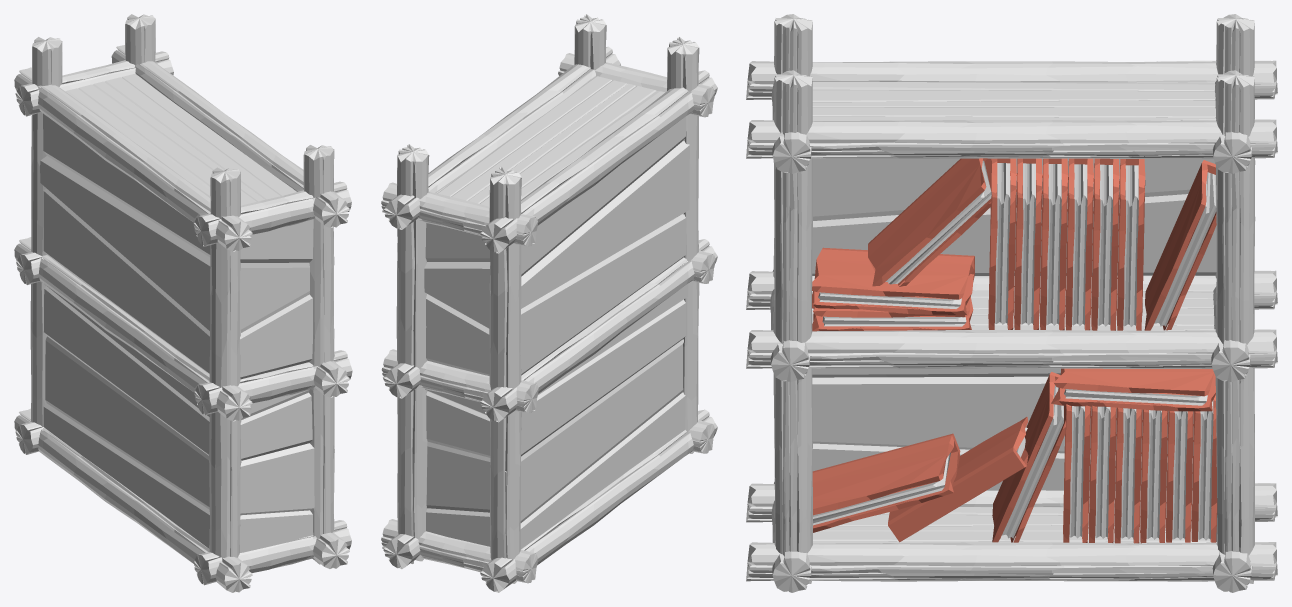
File: SM_Bookshelf.fbx
The picture shows the model from 3 angles, left to right: view 1: azimuth 30°, elevation 25°; view 2: azimuth 150°, elevation 25°; view 3: azimuth 270°, elevation 25°; orthographic projection. The views are drawn at different scales.
Visible parts, largest first — view 1: Wood Wall Base.003, Wood Wall Base.001, Log.003, Wood Floor.003, Log.001, Log.010, Log.008, Log.009, Log.007, Log.004, Log.013, Log.011 (+7 smaller); view 2: Wood Wall Base.003, Wood Wall Base.002, Log.004, Log.002, Wood Floor.003, Log.010, Log.008, Log.009, Log.007, Log.003, Log.016, Log.015 (+7 smaller); view 3: Wood Wall Base.003, Book.002, Book.001, Log.007, Log.006, Log.005, Log.002, Log.001, Wood Floor.003, Log.010, Book.010, Book.006 (+18 smaller).
Boxes of the visible parts, x1,y1,x2,y2 form: Wood Wall Base.003: (40,113,210,548); Wood Wall Base.001: (240,219,314,552); Log.003: (209,167,241,557); Wood Floor.003: (65,74,296,205); Log.001: (303,145,334,564); Log.010: (14,67,252,251); Log.008: (14,237,252,421); Log.009: (14,408,252,592); Log.007: (111,45,349,227); Log.004: (30,37,62,426); Log.013: (193,181,351,246); Log.011: (194,350,352,415); Wood Wall Base.003: (505,116,689,549); Wood Wall Base.002: (424,223,490,546); Log.004: (489,166,521,583); Log.002: (396,144,429,563); Wood Floor.003: (436,76,664,206); Log.010: (480,70,717,253); Log.008: (480,239,717,422); Log.009: (480,409,717,592); Log.007: (383,46,620,229); Log.003: (667,36,699,453); Log.016: (381,182,537,246); Log.015: (381,519,537,583); Wood Wall Base.003: (812,158,1216,490); Book.002: (988,158,1145,330); Book.001: (1063,394,1217,543); Log.007: (746,119,1277,158); Log.006: (746,542,1277,581); Log.005: (746,329,1277,369); Log.002: (1215,70,1255,583); Log.001: (773,70,812,583); Wood Floor.003: (812,81,1215,121); Log.010: (746,60,1277,99); Book.010: (812,433,960,532); Book.006: (868,158,991,286).
Bounding box in the file's own units: 124 × 336 × 319.
